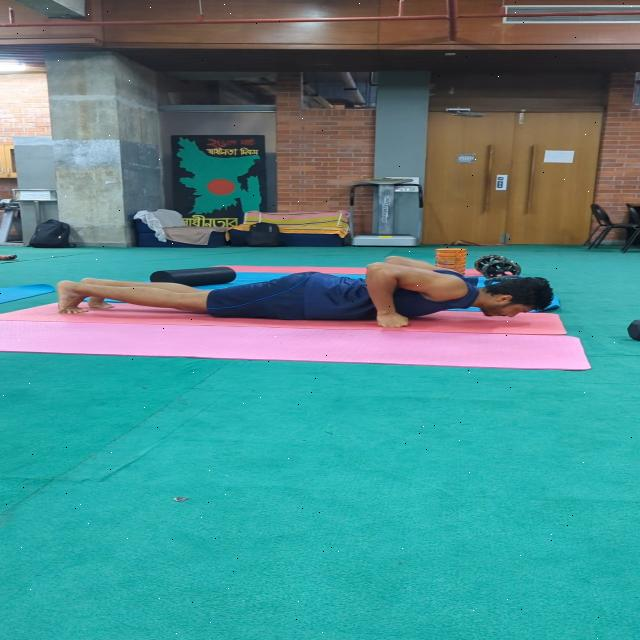Normal_PushUps: (41, 257, 578, 345)
